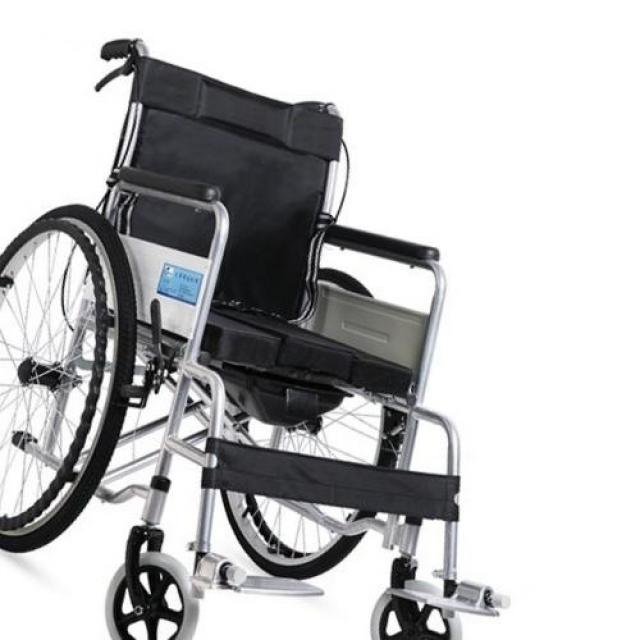wheelchair: (4, 19, 516, 640)
